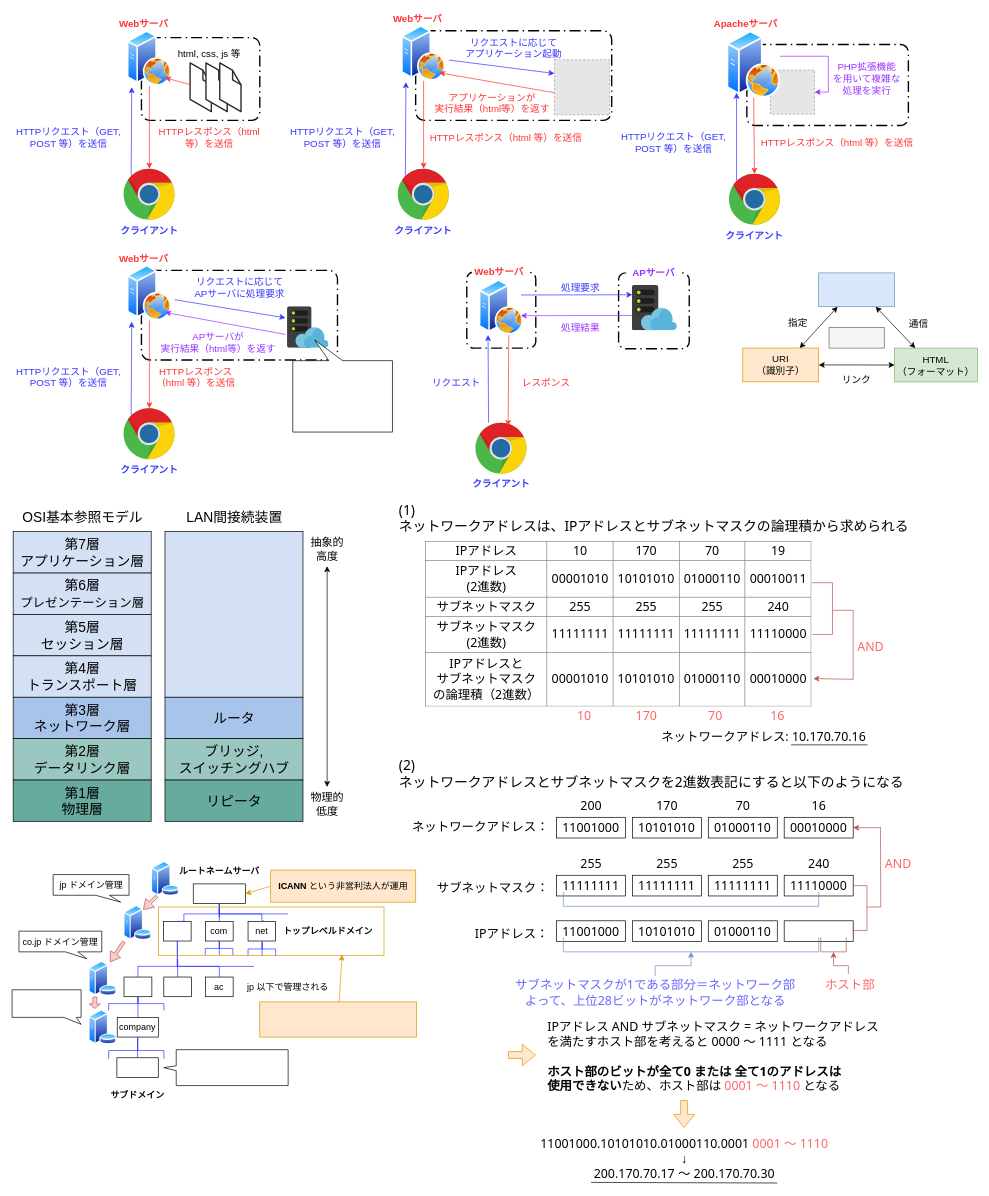
The diagram is 989 pixels wide and 1196 high, and some of its shapes have lost their labels. Grey dashed boxes stand in for pictures. The centre of each missing label's shape, as x and y in pixels:
0001XXXX: point 818,931
co: point 137,986
company.co.jp ドメイン管理: point 46,1006
go: point 177,986
HTTP （プロトコル）: point 856,289
jp: point 177,931
Webの要素: point 856,337
www: point 137,1067
www.company.co.jp 123.45.6.78: point 225,1067
【APサーバ】 アプリケーションが 常時稼働 しているサーバ: point 342,385
ゲートウェイ: point 233,614
トップレベルドメインを管理している組織を レジストリ と呼ぶ: point 337,1019
ルート: point 219,893
